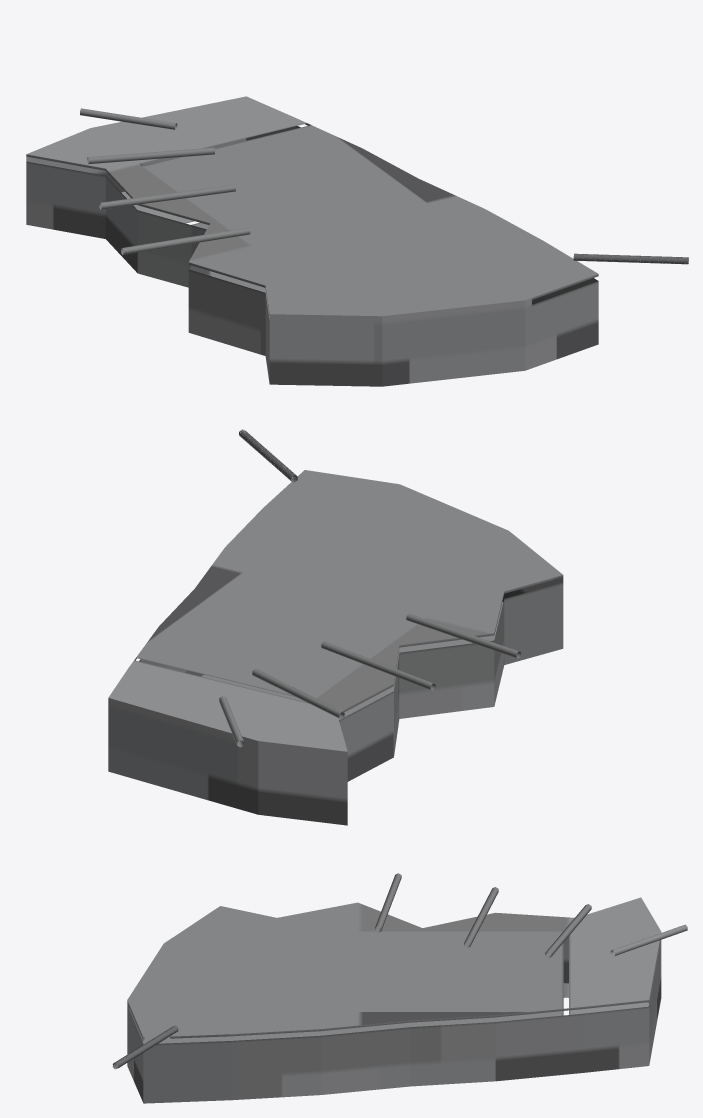
The picture shows the model from 3 angles, top to bottom: view 1: azimuth 30°, elevation 25°; view 2: azimuth 150°, elevation 25°; view 3: azimuth 270°, elevation 25°; orthographic projection. The views are drawn at different scales.
Bounding box in the file's own units: 1 × 0.2444 × 1.3.
